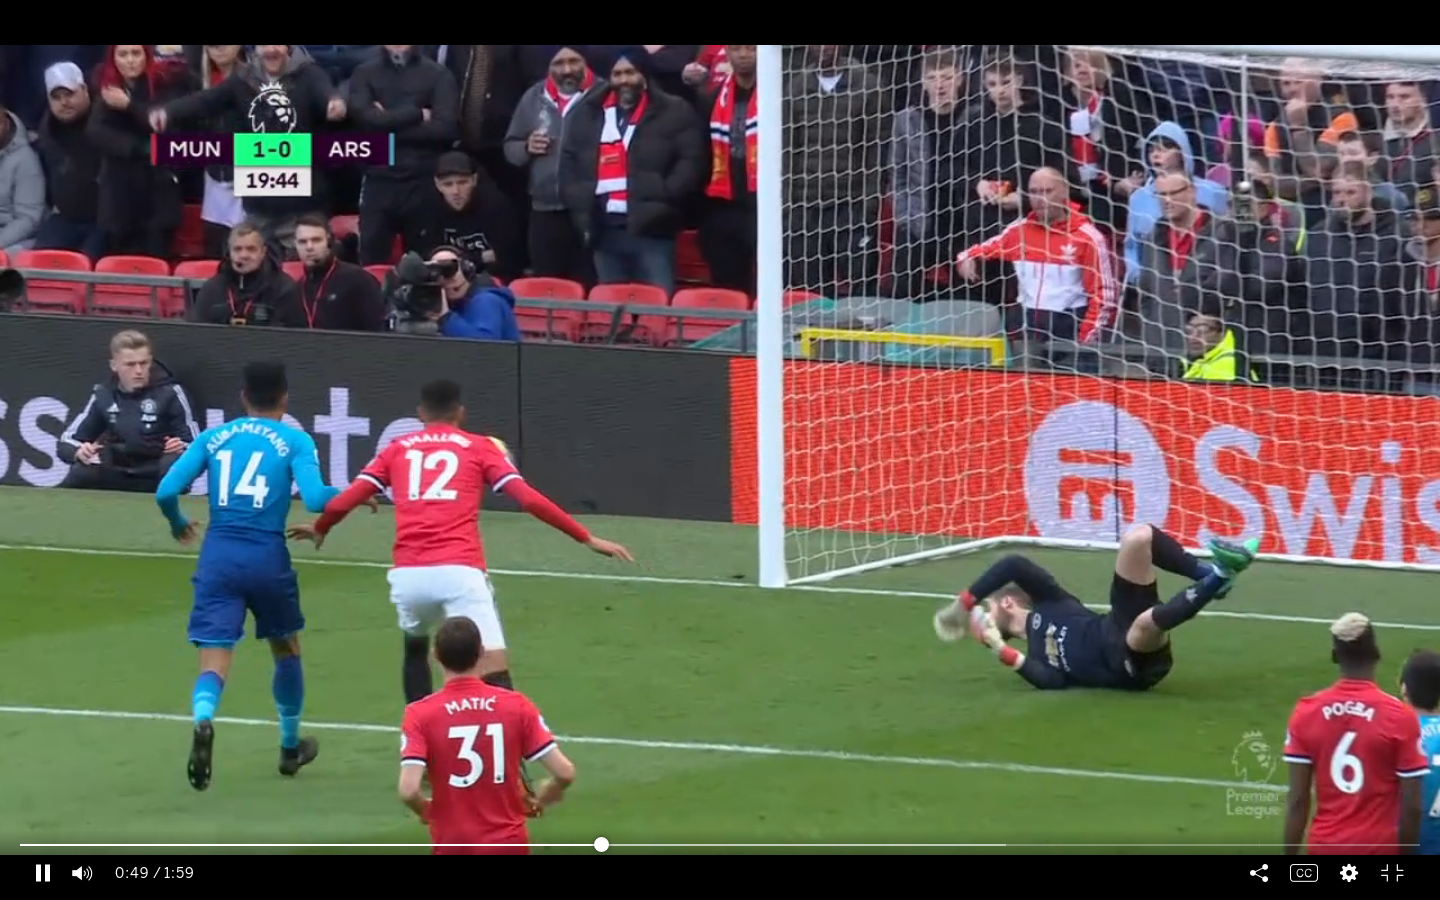soccer player: (152, 362, 341, 783), (336, 362, 539, 702), (922, 522, 1255, 705), (396, 616, 567, 854), (1278, 617, 1421, 845)
